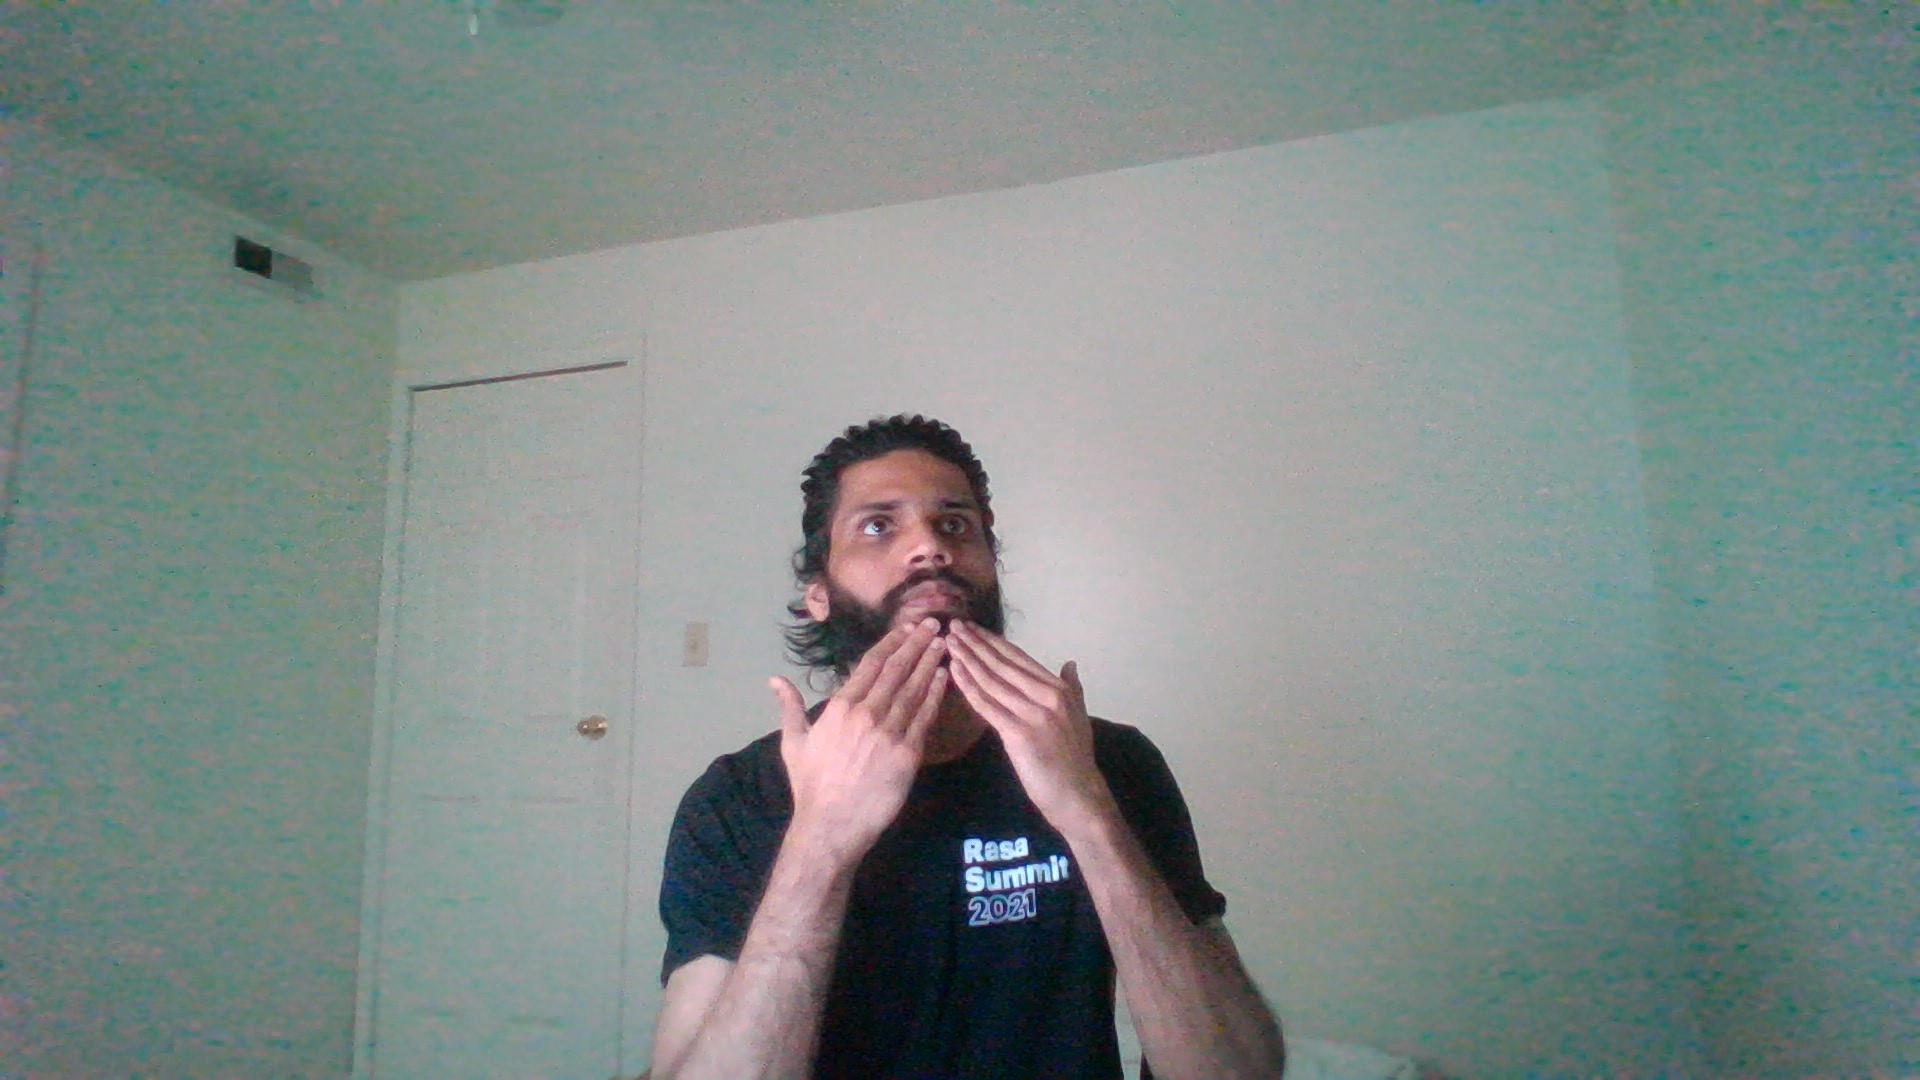Thank You: (741, 591, 1147, 869)
